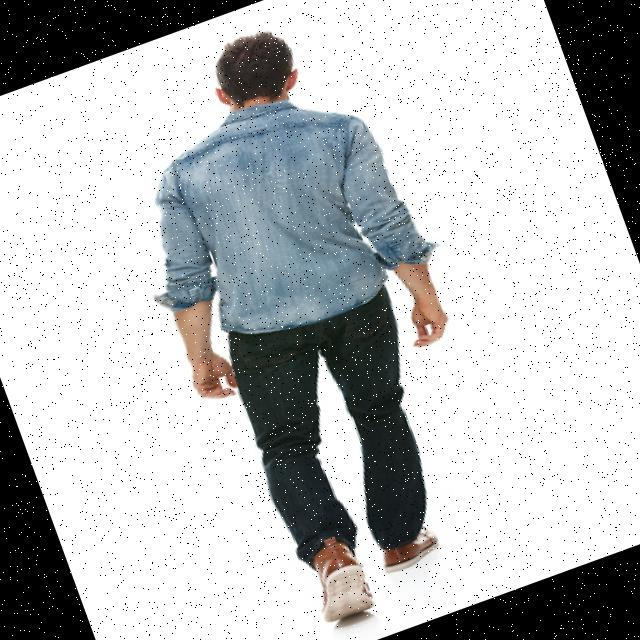Person: (78, 0, 549, 640)
